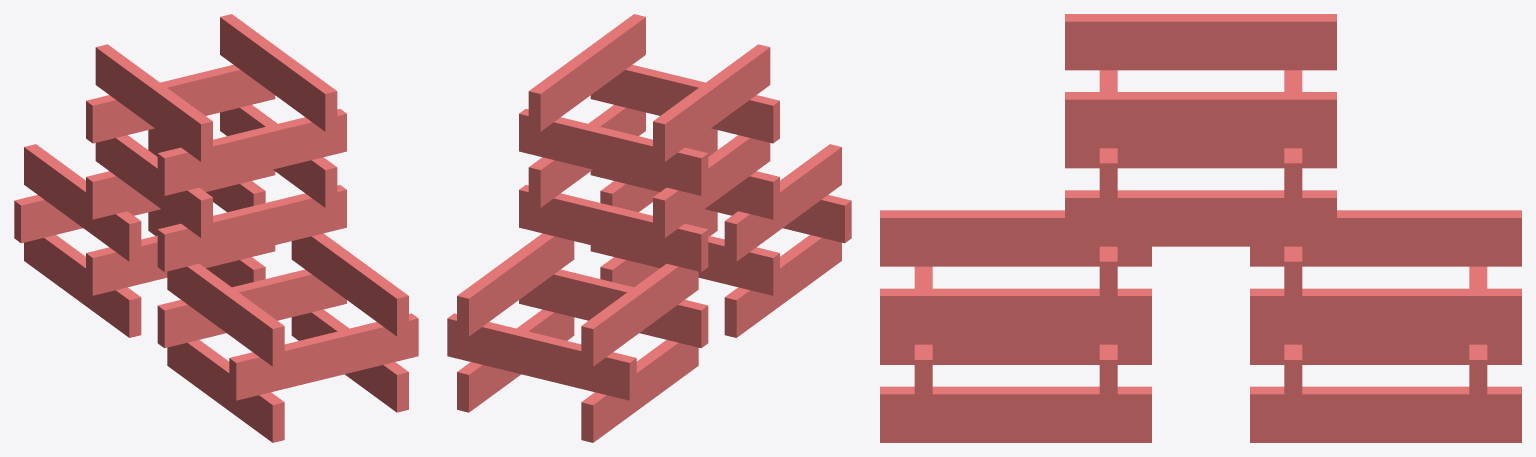
3 views of the same model, side by side, from view 1: azimuth 30°, elevation 25°; view 2: azimuth 150°, elevation 25°; view 3: azimuth 270°, elevation 25° (orthographic). The views are drawn at different scales.
Parts seen in each view (by area): view 1: base (×20); view 2: base (×20); view 3: base (×20).
Boxes of the visible parts, x1,y1,x2,y2 form: base (×20): (14,14,418,442); base (×20): (447,14,851,442); base (×20): (880,14,1521,442).
Bounding box in the file's own units: 0.1177 × 0.2777 × 0.1639.
